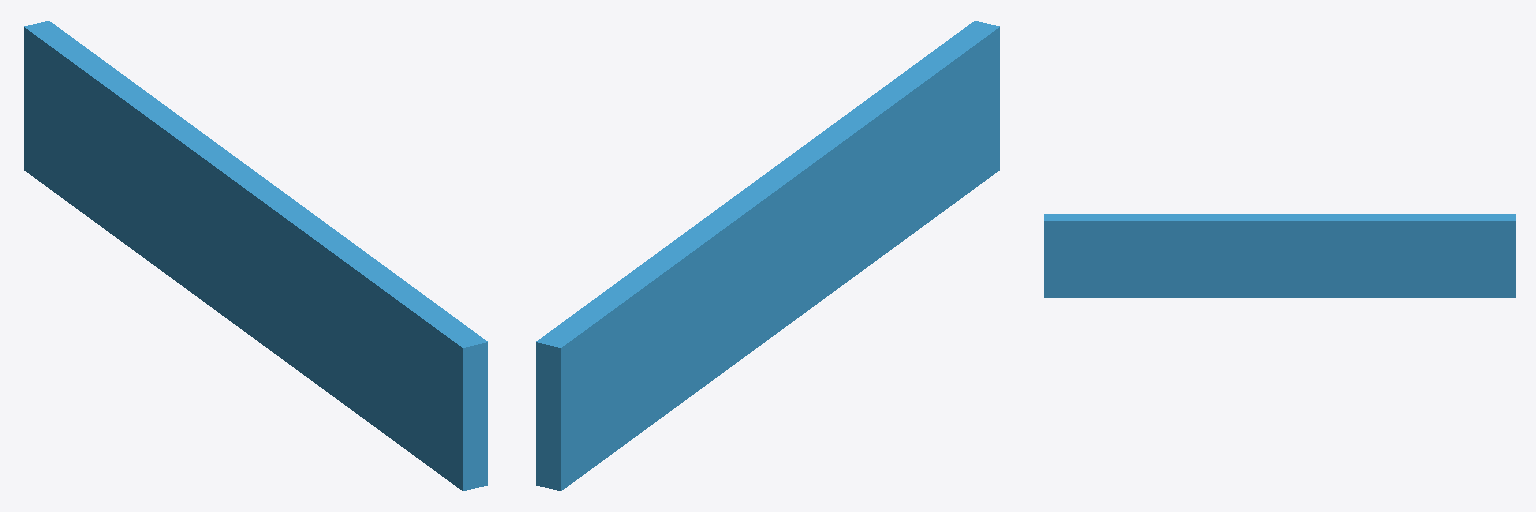
robot.urdf — box_26:
<?xml version="1.0" encoding="utf-8"?>    
    
    <robot name="box_26">
        <link name="box_26">    
            <fem>
                <origin rpy="0.0 0.0 0.0" xyz="0 0 0" />
                <density value="100" />
                <youngs value="5908"/>
                <poissons value="0.3" />
                <damping value="0.0" />
                <attachDistance value="0.01" />
                <tetmesh filename="[local-path]/sim_data/Custom/Custom_mesh/multi_boxes_5kPa/box_26.tet" />
                <scale value="0.5"/>
            </fem>
        </link>

        <link name="fix_frame">
            <visual>
                <origin xyz="-10.097758727859373 0.0 0.0"/>              
                <geometry>
                    <box size="0.005 0.15 0.026994792753175043"/>
                </geometry>
            </visual>
            <collision>
                <origin xyz="-0.09775872785937342 0.0 0.0"/>              
                <geometry>
                    <box size="0.005 0.15 0.026994792753175043"/>
                </geometry>
            </collision>
            <inertial>
                <mass value="500000"/>
                <inertia ixx="0.05" ixy="0.0" ixz="0.0" iyy="0.05" iyz="0.0" izz="0.05"/>
            </inertial>
        </link>
        
        <joint name = "attach" type = "fixed">
            <origin xyz = "0.0 0.0 0.0" rpy = "0 0 0"/>
            <parent link ="box_26"/>
            <child link = "fix_frame"/>
        </joint>  




    </robot>
    

--- What the picture shows (computed from the rendered views, not written in the file) ---
3 views of the same robot in one strip: view 1: azimuth 30°, elevation 25°; view 2: azimuth 150°, elevation 25°; view 3: azimuth 270°, elevation 25° (orthographic).
Robot: box_26 — 2 links, 1 joints (1 fixed); root link box_26; default pose: all joints at 0.
Visible links, largest first — view 1: fix_frame; view 2: fix_frame; view 3: fix_frame.
Link boxes in pixels (bbox=[...]): fix_frame: bbox=[24, 21, 487, 490]; fix_frame: bbox=[536, 21, 999, 490]; fix_frame: bbox=[1044, 214, 1515, 297].
Size in the robot's own frame: 0.005 by 0.15 by 0.027 metres.
Geometry: primitives only (box / cylinder / sphere), no mesh files.